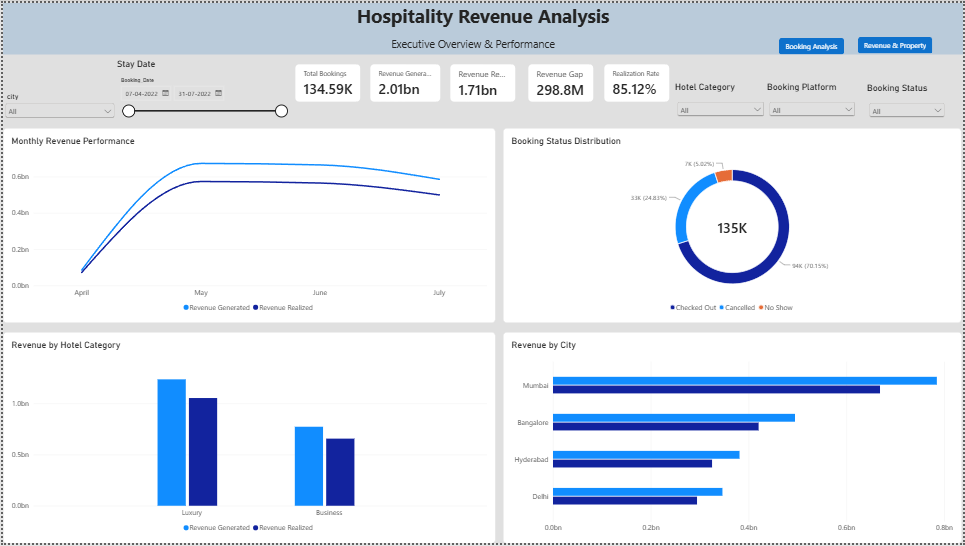

The page's visual inventory and layout, read from the dashboard file:
{"tool":"powerbi","page":{"name":"Page 1","canvas":[1920,1080],"ordinal":0},"visuals":[{"type":"cardVisual","fields":{"Data":["hospitality_powerbi_data.Total Bookings"]},"box":[572.5,110,155,100],"z":0},{"type":"lineChart","title":"Monthly Revenue Performance","fields":{"Category":["hospitality_powerbi_data.booking_date.Variation.Date Hierarchy.Month"],"Y":["hospitality_powerbi_data.Revenue Generated","hospitality_powerbi_data.Revenue Realized"]},"box":[0,250,985,390],"z":1000},{"type":"clusteredColumnChart","title":"Revenue by Hotel Category","fields":{"Category":["hospitality_powerbi_data.hotel_category"],"Y":["hospitality_powerbi_data.Revenue Generated","hospitality_powerbi_data.Revenue Realized"]},"box":[0,657.5,985,422.5],"z":2000},{"type":"donutChart","title":"Booking Status Distribution","fields":{"Category":["hospitality_powerbi_data.booking_status"],"Y":["hospitality_powerbi_data.Total Bookings"]},"box":[1000,250,917.1,390],"z":3000},{"type":"clusteredBarChart","title":"Revenue by City","fields":{"Category":["hospitality_powerbi_data.city"],"Y":["hospitality_powerbi_data.Revenue Generated","hospitality_powerbi_data.Revenue Realized"]},"box":[1000,657.5,917.5,422.5],"z":4000},{"type":"slicer","title":"Stay Date","fields":{"Values":["hospitality_powerbi_data.booking_date"]},"box":[227.5,110,345,140],"z":5000},{"type":"slicer","title":"Hotel Category","fields":{"Values":["hospitality_powerbi_data.hotel_category"]},"box":[1344.3,155.7,182.9,94.3],"z":6000},{"type":"slicer","fields":{"Values":["hospitality_powerbi_data.city"]},"box":[0,177.5,227.5,72.5],"z":7000},{"type":"slicer","title":"Booking Platform","fields":{"Values":["hospitality_powerbi_data.booking_platform"]},"box":[1527.1,155.7,181.4,94.3],"z":8000},{"type":"slicer","title":"Booking Status","fields":{"Values":["hospitality_powerbi_data.booking_status"]},"box":[1727.5,157.5,160,90],"z":9000},{"type":"textbox","box":[0,0,1920,102.5],"z":10000},{"type":"textbox","box":[520,65,840,37.5],"z":11000},{"type":"cardVisual","fields":{"Data":["hospitality_powerbi_data.Revenue Generated"]},"box":[727.5,110,155,92.5],"z":12000},{"type":"cardVisual","fields":{"Data":["hospitality_powerbi_data.Revenue Realized"]},"box":[882.5,110,155,100],"z":13000},{"type":"cardVisual","fields":{"Data":["hospitality_powerbi_data.Revenue Gap"]},"box":[1037.5,110,155,100],"z":14000},{"type":"cardVisual","fields":{"Data":["hospitality_powerbi_data.Realization Rate"]},"box":[1190,110,155,100],"z":15000},{"type":"cardVisual","fields":{"Data":["hospitality_powerbi_data.Revenue Generated"]},"box":[722.5,110,165,100],"z":16000},{"type":"actionButton","box":[1552.5,70.2,130.1,33],"z":16001},{"type":"actionButton","box":[1709.4,68.1,148.6,33],"z":16002}]}

Visuals, with their boxes in screenshot pixels (x1, y1, x2, y2), scaled from the page's 1920x1080 canvas onto the 965x546 screenshot:
cardVisual - hospitality_powerbi_data.Total Bookings: <bbox>288, 56, 366, 106</bbox>
"Monthly Revenue Performance" lineChart: <bbox>0, 126, 495, 324</bbox>
"Revenue by Hotel Category" clusteredColumnChart: <bbox>0, 332, 495, 545</bbox>
"Booking Status Distribution" donutChart: <bbox>503, 126, 964, 324</bbox>
"Revenue by City" clusteredBarChart: <bbox>503, 332, 964, 545</bbox>
"Stay Date" slicer: <bbox>114, 56, 288, 126</bbox>
"Hotel Category" slicer: <bbox>676, 79, 768, 126</bbox>
slicer - hospitality_powerbi_data.city: <bbox>0, 90, 114, 126</bbox>
"Booking Platform" slicer: <bbox>768, 79, 859, 126</bbox>
"Booking Status" slicer: <bbox>868, 80, 949, 125</bbox>
textbox: <bbox>0, 0, 964, 52</bbox>
textbox: <bbox>261, 33, 684, 52</bbox>
cardVisual - hospitality_powerbi_data.Revenue Generated: <bbox>366, 56, 444, 102</bbox>
cardVisual - hospitality_powerbi_data.Revenue Realized: <bbox>444, 56, 521, 106</bbox>
cardVisual - hospitality_powerbi_data.Revenue Gap: <bbox>521, 56, 599, 106</bbox>
cardVisual - hospitality_powerbi_data.Realization Rate: <bbox>598, 56, 676, 106</bbox>
cardVisual - hospitality_powerbi_data.Revenue Generated: <bbox>363, 56, 446, 106</bbox>
actionButton: <bbox>780, 35, 846, 52</bbox>
actionButton: <bbox>859, 34, 934, 51</bbox>
